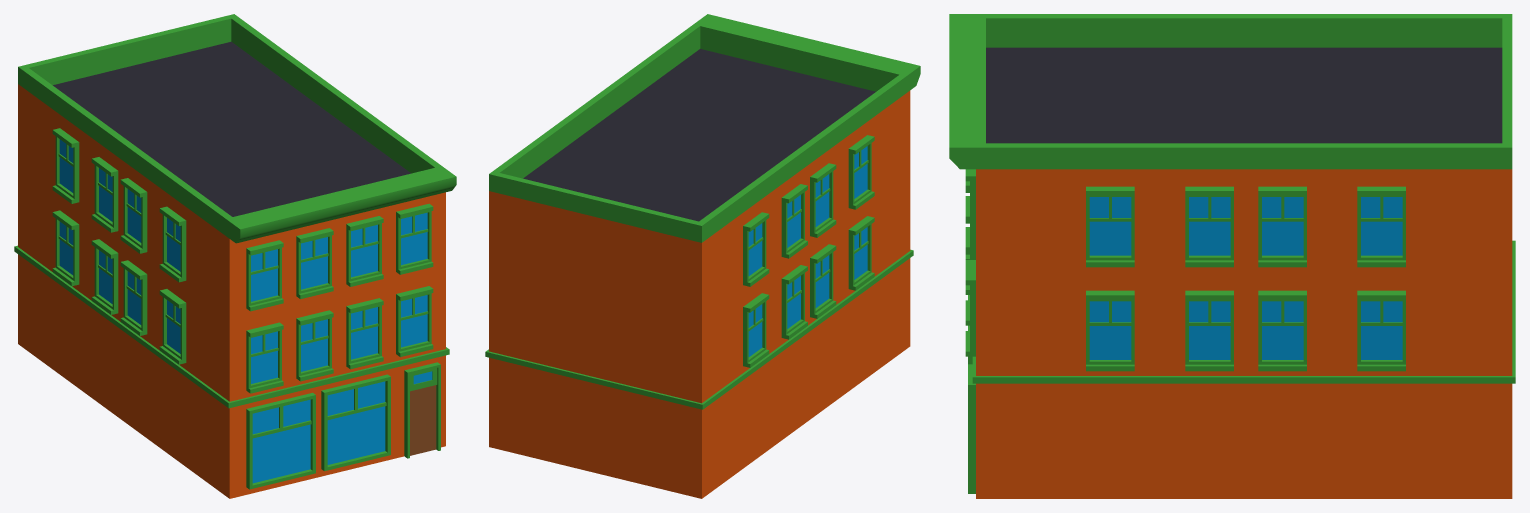
File: Building_09.fbx
3 views of the same model, side by side, from view 1: azimuth 30°, elevation 25°; view 2: azimuth 150°, elevation 25°; view 3: azimuth 270°, elevation 25° (orthographic). The views are drawn at different scales.
Visible parts, largest first — view 1: B9; view 2: B9; view 3: B9.
Boxes of the visible parts, <box> form: B9: <box>14,14,456,498</box>; B9: <box>485,14,920,498</box>; B9: <box>949,14,1515,498</box>.
Bounding box in the file's own units: 13.88 × 15.93 × 23.27.
1 material, 1 textured.
